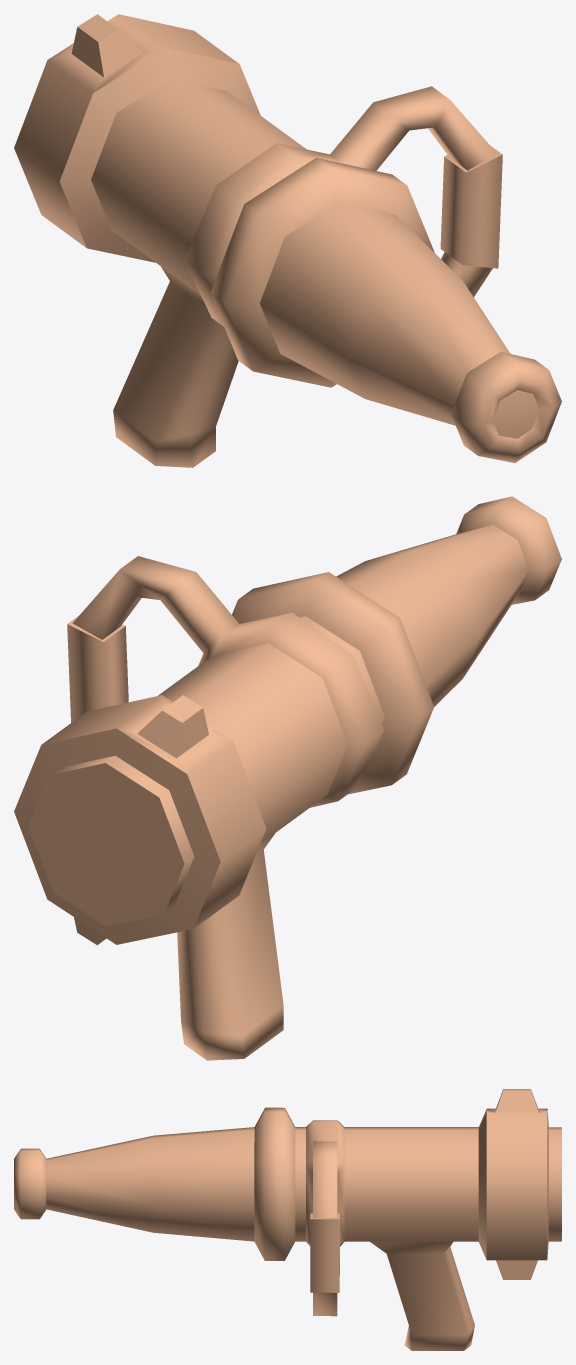
The model's file is HoseNozzle.fbx.
The picture shows the model from 3 angles, top to bottom: view 1: azimuth 30°, elevation 25°; view 2: azimuth 150°, elevation 25°; view 3: azimuth 270°, elevation 25°; orthographic projection. The views are drawn at different scales.
Parts seen in each view (by area): view 1: Hose_Nozzle_B_Nozzle_Mesh; view 2: Hose_Nozzle_B_Nozzle_Mesh; view 3: Hose_Nozzle_B_Nozzle_Mesh.
Part boxes in pixels (box(x1,y1,x2,y2)): Hose_Nozzle_B_Nozzle_Mesh: box(14, 14, 561, 467); Hose_Nozzle_B_Nozzle_Mesh: box(14, 496, 561, 1060); Hose_Nozzle_B_Nozzle_Mesh: box(14, 1089, 561, 1350).
Bounding box in the file's own units: 22.45 × 26.45 × 51.52.
